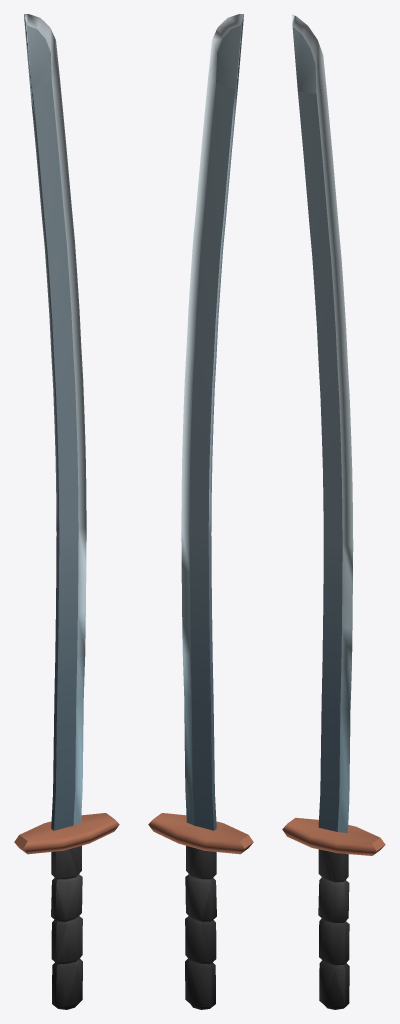
Rendered from odache.glb.
The picture shows the model from 3 angles, left to right: view 1: azimuth 30°, elevation 25°; view 2: azimuth 150°, elevation 25°; view 3: azimuth 330°, elevation 25°; orthographic projection. The views are drawn at different scales.
Visible parts, largest first — view 1: odache; view 2: odache; view 3: odache.
Boxes of the visible parts, x1=… form: odache: x1=14, y1=14, x2=119, y2=1009; odache: x1=148, y1=14, x2=253, y2=1009; odache: x1=282, y1=14, x2=385, y2=1009.
Size of the model in its own units: 0.1977 by 1.97 by 0.0768.
Materials: 1 (1 with a texture image).
